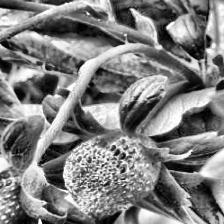Powdery Mildew Fruit: (63, 132, 162, 222)
